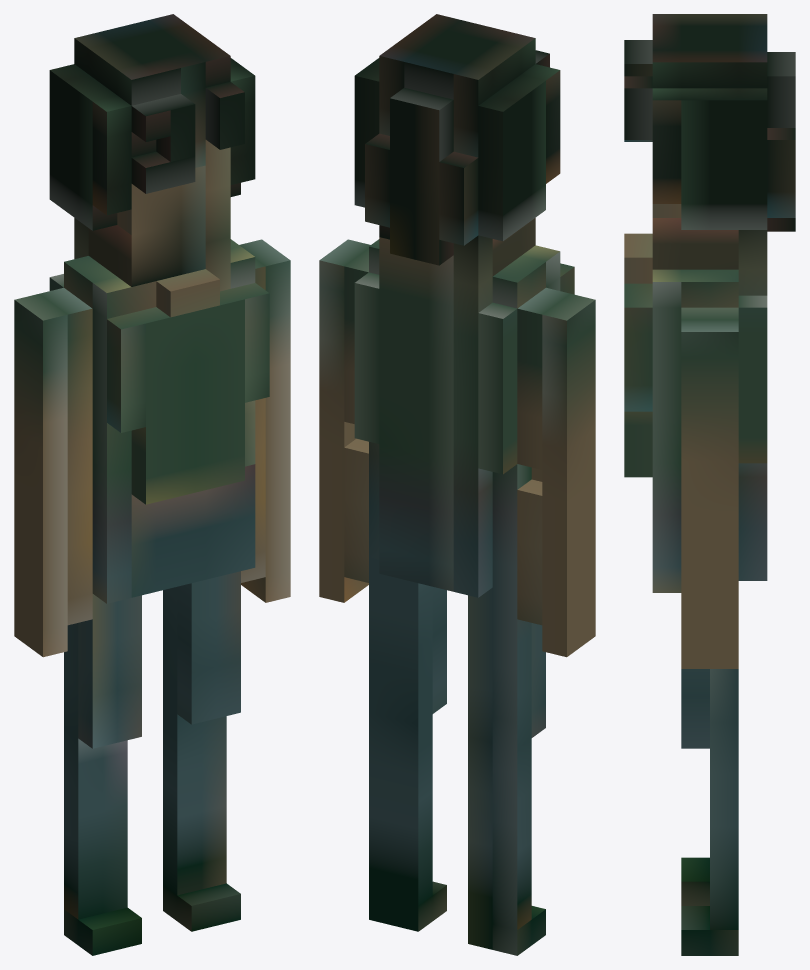
File: Character_Guy_00.fbx
3 views of the same model, side by side, from view 1: azimuth 30°, elevation 25°; view 2: azimuth 150°, elevation 25°; view 3: azimuth 270°, elevation 25° (orthographic).
Parts seen in each view (by area): view 1: Character_Guy_00; view 2: Character_Guy_00; view 3: Character_Guy_00.
Part boxes in pixels (<box>): Character_Guy_00: <box>14,14,290,955</box>; Character_Guy_00: <box>319,14,595,955</box>; Character_Guy_00: <box>624,14,795,955</box>.
Bounding box in the file's own units: 50 × 30 × 170.
1 material, 1 textured.
